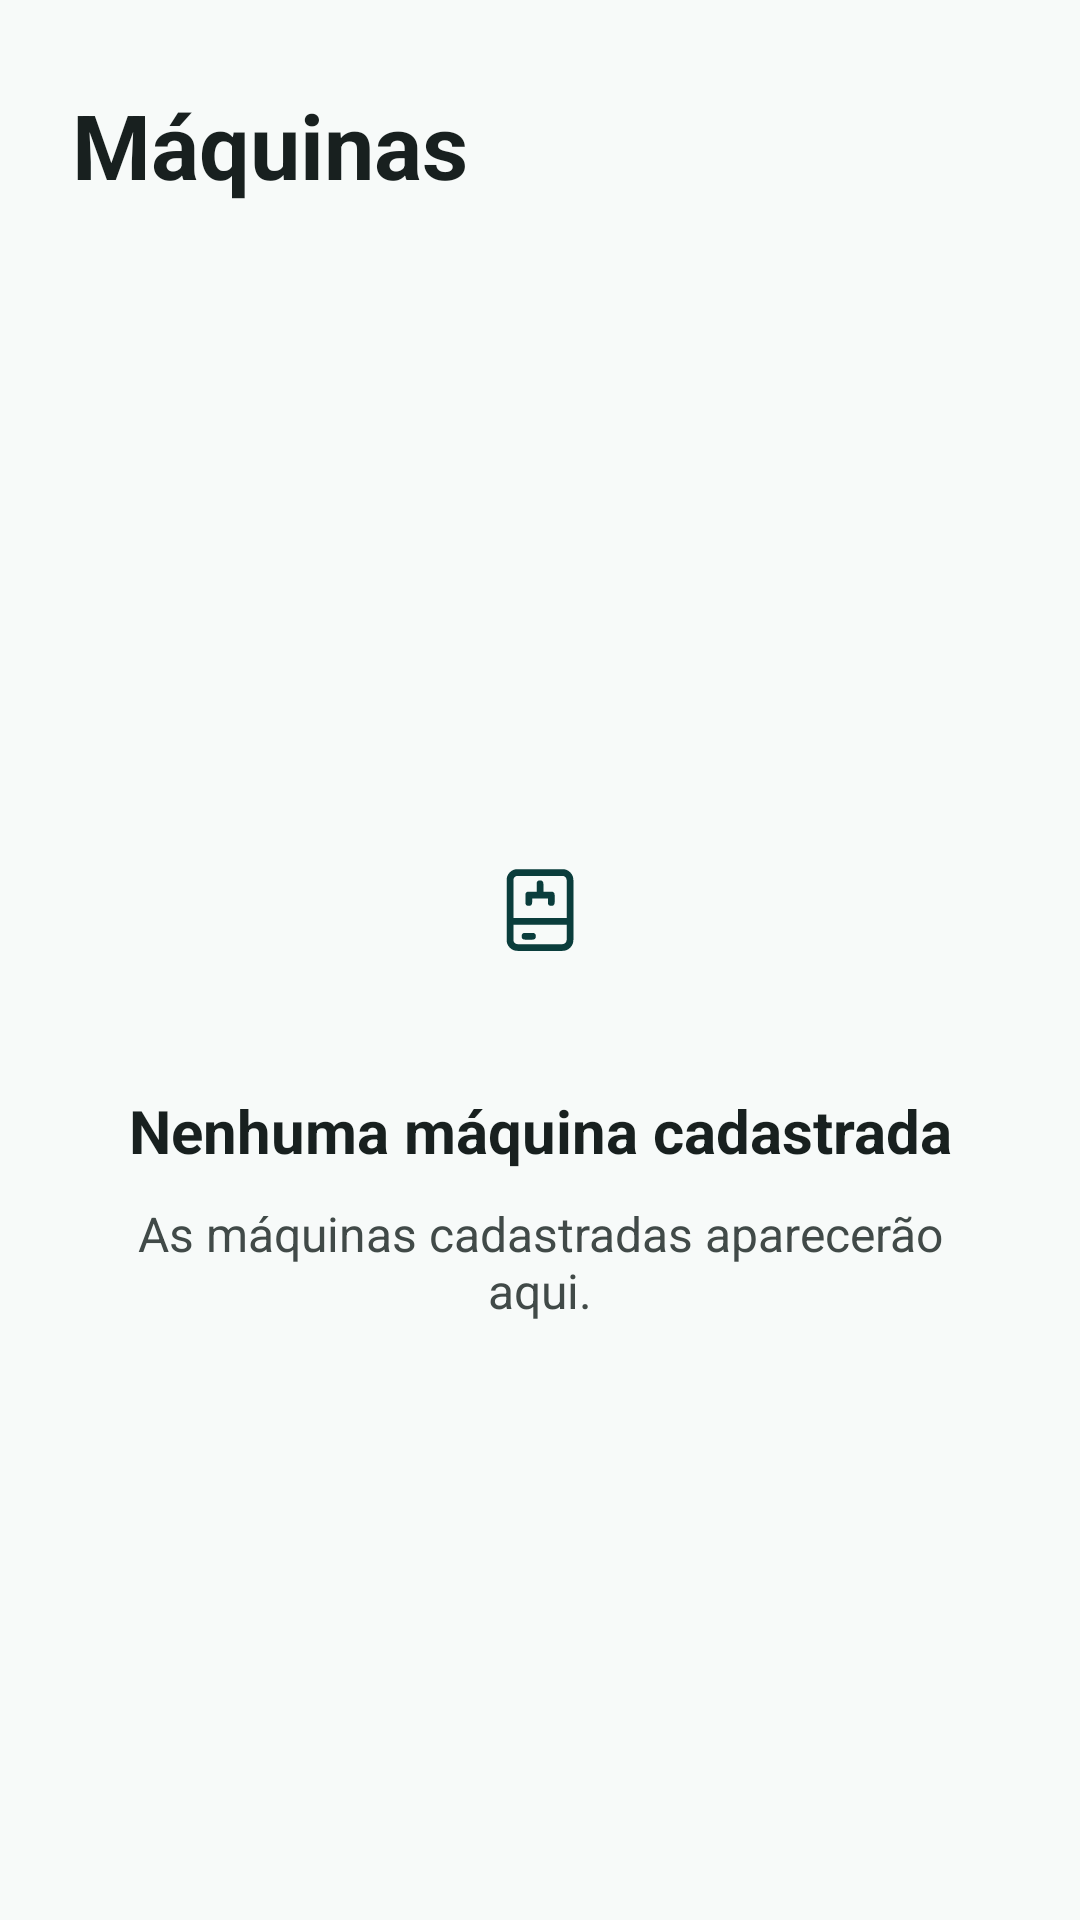

Where icons sit on this 1080px×1920px app screen, as detection(x1, y1, x2, y2):
machine: detection(506, 869, 574, 951)
